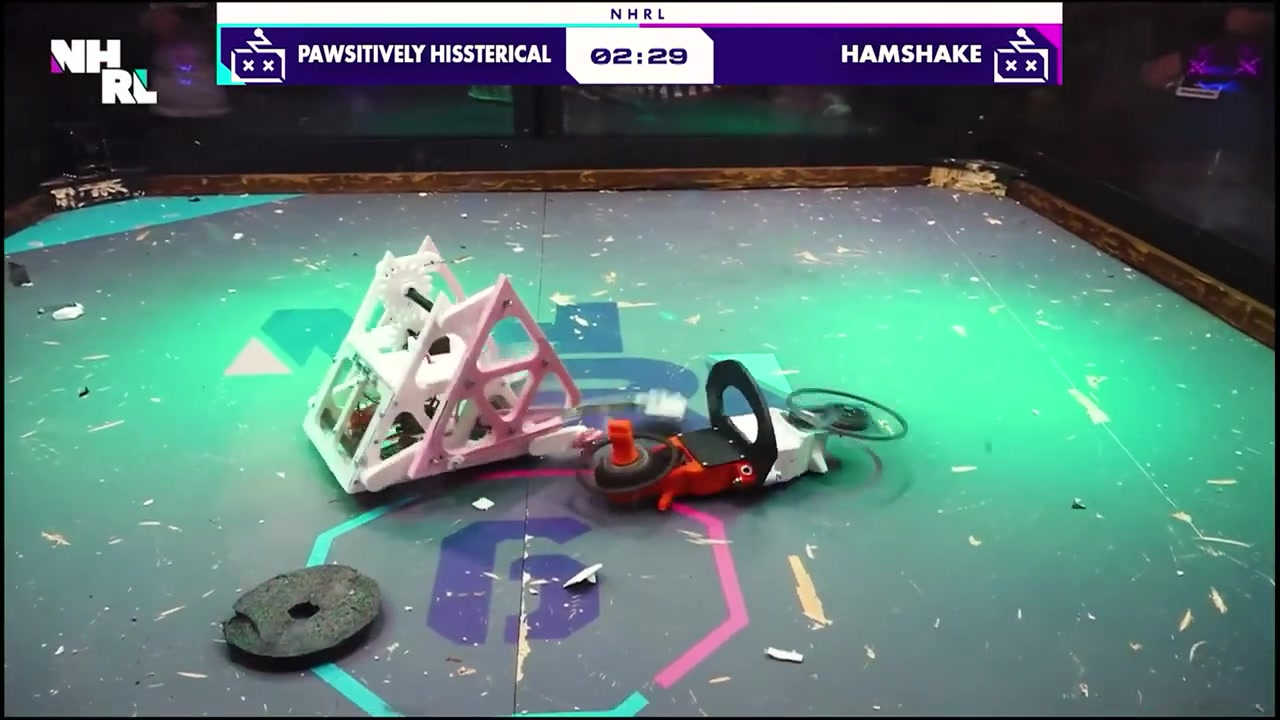combatbot: (305, 233, 558, 500), (577, 354, 904, 524)
debris: (46, 301, 86, 321)
wheel: (223, 563, 383, 666)
